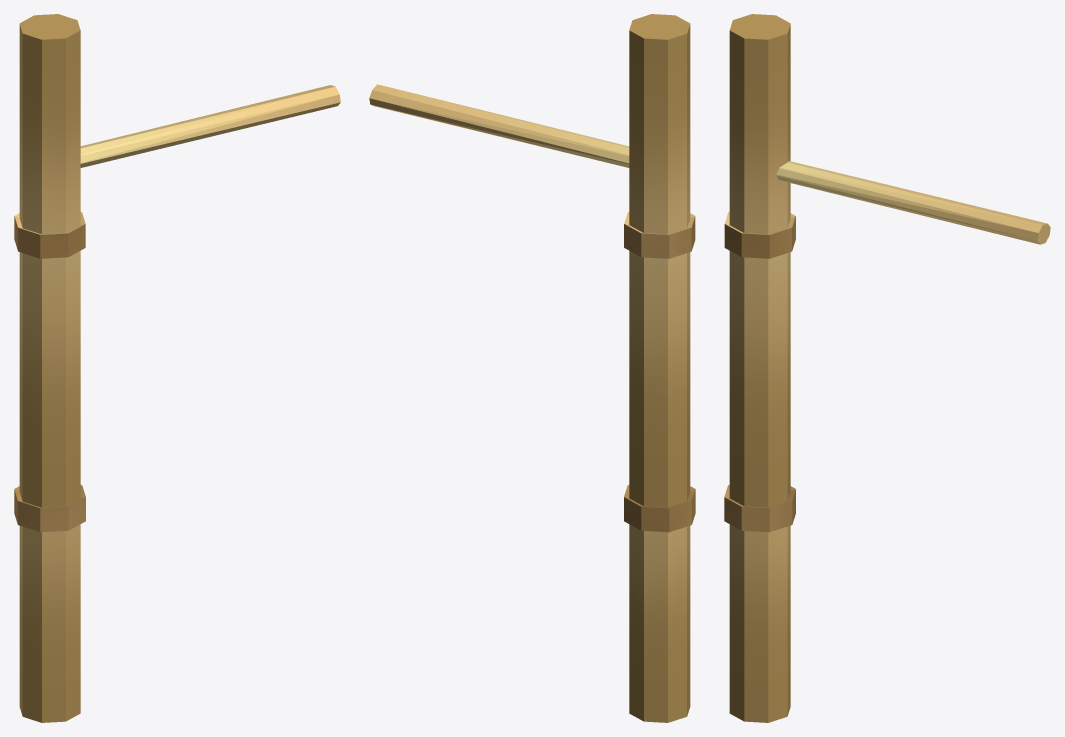
File: MarketStall_FlagPole.gltf
The picture shows the model from 3 angles, left to right: view 1: azimuth 30°, elevation 25°; view 2: azimuth 150°, elevation 25°; view 3: azimuth 330°, elevation 25°; orthographic projection.
Parts seen in each view (by area): view 1: MarketStall_FlagPole; view 2: MarketStall_FlagPole; view 3: MarketStall_FlagPole.
Boxes of the visible parts, x1,y1,x2,y2 form: MarketStall_FlagPole: [14, 14, 340, 722]; MarketStall_FlagPole: [369, 14, 695, 722]; MarketStall_FlagPole: [724, 14, 1050, 722].
Size of the model in its own units: 1.16 by 2.4 by 0.2364.
1 material, 1 textured.
